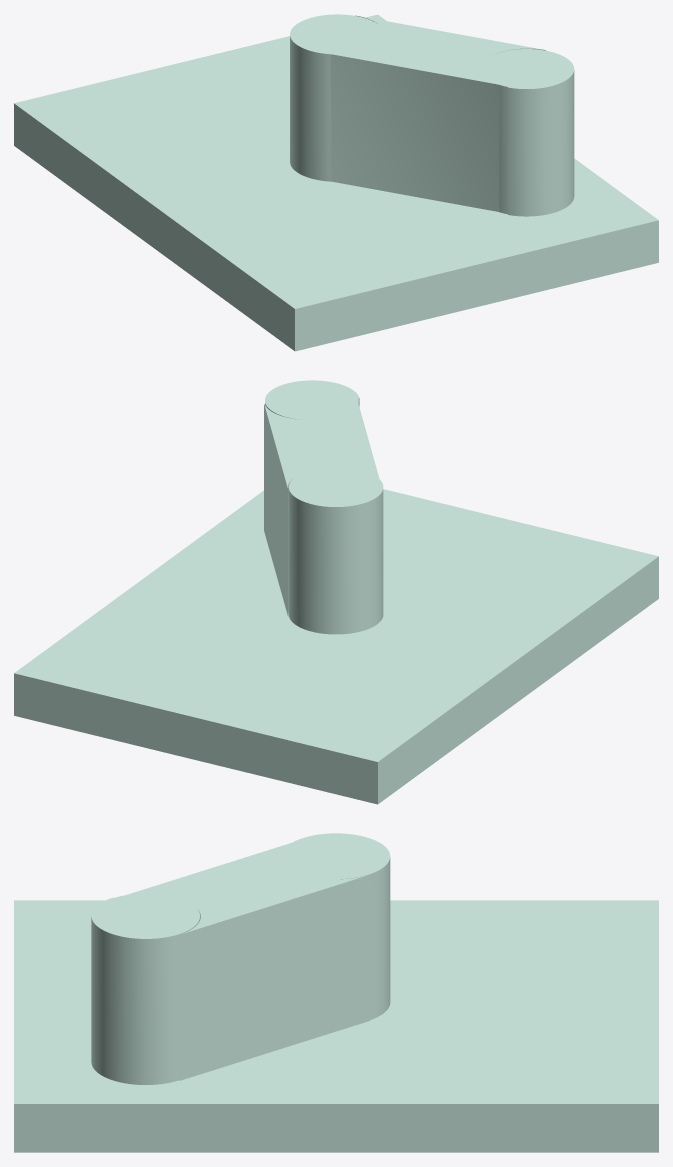
The picture shows the model from 3 angles, top to bottom: view 1: azimuth 30°, elevation 25°; view 2: azimuth 150°, elevation 25°; view 3: azimuth 270°, elevation 25°; orthographic projection. The views are drawn at different scales.
Parts seen in each view (by area): view 1: Renderer Node; view 2: Renderer Node; view 3: Renderer Node.
Boxes of the visible parts, x1=… form: Renderer Node: x1=14, y1=14, x2=658, y2=351; Renderer Node: x1=14, y1=380, x2=658, y2=804; Renderer Node: x1=14, y1=833, x2=658, y2=1152.
Bounding box in the file's own units: 1.12 × 0.5 × 1.5.
